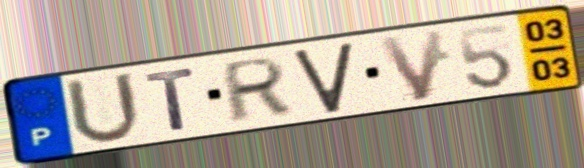5: (454, 20, 517, 92)
R: (221, 54, 293, 127)
T: (142, 65, 200, 134)
U: (61, 70, 145, 148)
V: (374, 25, 449, 104), (290, 39, 356, 116)
